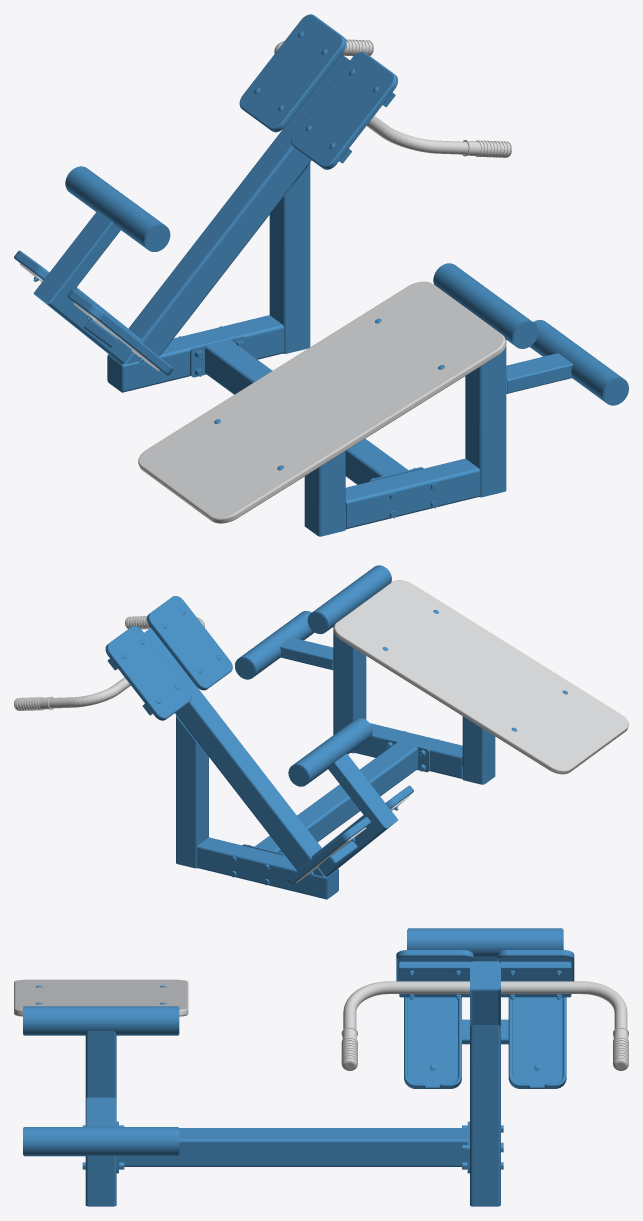
Rendered from sibconstract_blue_white.glb.
3 views of the same model, one above another, from view 1: azimuth 30°, elevation 25°; view 2: azimuth 150°, elevation 25°; view 3: azimuth 270°, elevation 25° (orthographic). The views are drawn at different scales.
Visible parts, largest first — view 1: part_055, part_029, part_027, part_025, part_026, part_004, part_006, part_028, part_000, part_032, part_031, part_007 (+7 smaller); view 2: part_055, part_029, part_027, part_026, part_025, part_000, part_028, part_006, part_004, part_032, part_031, part_007 (+7 smaller); view 3: part_000, part_027, part_023, part_024, part_055, part_008, part_007, part_006, part_032, part_037, part_038, part_026 (+8 smaller).
Boxes of the visible parts, x1,y1,x2,y2 form: part_055: [138, 281, 506, 523]; part_029: [122, 55, 349, 364]; part_027: [269, 162, 310, 353]; part_025: [239, 14, 346, 132]; part_026: [291, 52, 397, 169]; part_004: [345, 458, 479, 529]; part_006: [465, 339, 506, 497]; part_028: [107, 315, 283, 392]; part_000: [205, 340, 407, 484]; part_032: [65, 166, 170, 251]; part_031: [34, 210, 120, 303]; part_007: [433, 263, 538, 348]; part_055: [333, 580, 628, 774]; part_029: [144, 628, 325, 876]; part_027: [176, 715, 208, 868]; part_026: [146, 596, 232, 690]; part_025: [105, 626, 191, 720]; part_000: [255, 742, 417, 852]; part_028: [197, 837, 338, 899]; part_006: [333, 626, 366, 753]; part_004: [354, 723, 462, 778]; part_032: [288, 718, 372, 786]; part_031: [328, 753, 397, 827]; part_007: [307, 565, 391, 633]; part_000: [119, 1128, 467, 1166]; part_027: [470, 1025, 500, 1206]; part_023: [508, 997, 566, 1088]; part_024: [404, 997, 461, 1088]; part_055: [14, 979, 188, 1016]; part_008: [23, 1127, 178, 1156]; part_007: [23, 1006, 178, 1035]; part_006: [85, 1030, 116, 1206]; part_032: [408, 928, 562, 957]; part_037: [343, 981, 469, 1028]; part_038: [501, 981, 627, 1028]; part_026: [396, 950, 473, 981].
Bounding box in the file's own units: 1349 × 798 × 1588.
